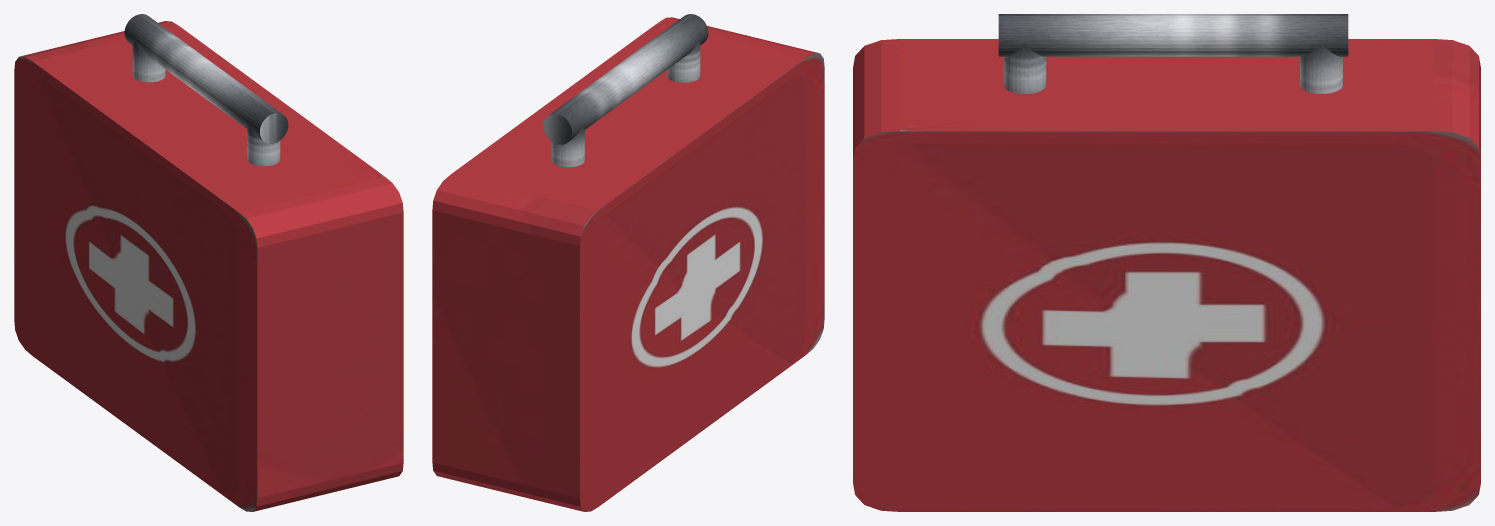
File: Botequin.fbx
3 views of the same model, side by side, from view 1: azimuth 30°, elevation 25°; view 2: azimuth 150°, elevation 25°; view 3: azimuth 270°, elevation 25° (orthographic). The views are drawn at different scales.
Visible parts, largest first — view 1: Cube, Cilindro.003, Cilindro, Cilindro.002; view 2: Cube, Cilindro.003, Cilindro.002, Cilindro; view 3: Cube, Cilindro.003, Cilindro, Cilindro.002.
Part boxes in pixels (x1,y1,x2,y2): Cube: (14, 21, 403, 511); Cilindro.003: (124, 14, 288, 143); Cilindro: (247, 125, 280, 166); Cilindro.002: (132, 41, 165, 82); Cube: (432, 17, 824, 511); Cilindro.003: (543, 14, 708, 144); Cilindro.002: (551, 125, 584, 167); Cilindro: (667, 41, 700, 82); Cube: (853, 39, 1480, 511); Cilindro.003: (998, 14, 1348, 56); Cilindro: (1003, 44, 1046, 93); Cilindro.002: (1300, 44, 1342, 93).
Size of the model in its own units: 85.95 by 195 by 247.
Materials: 2 (2 with a texture image).
